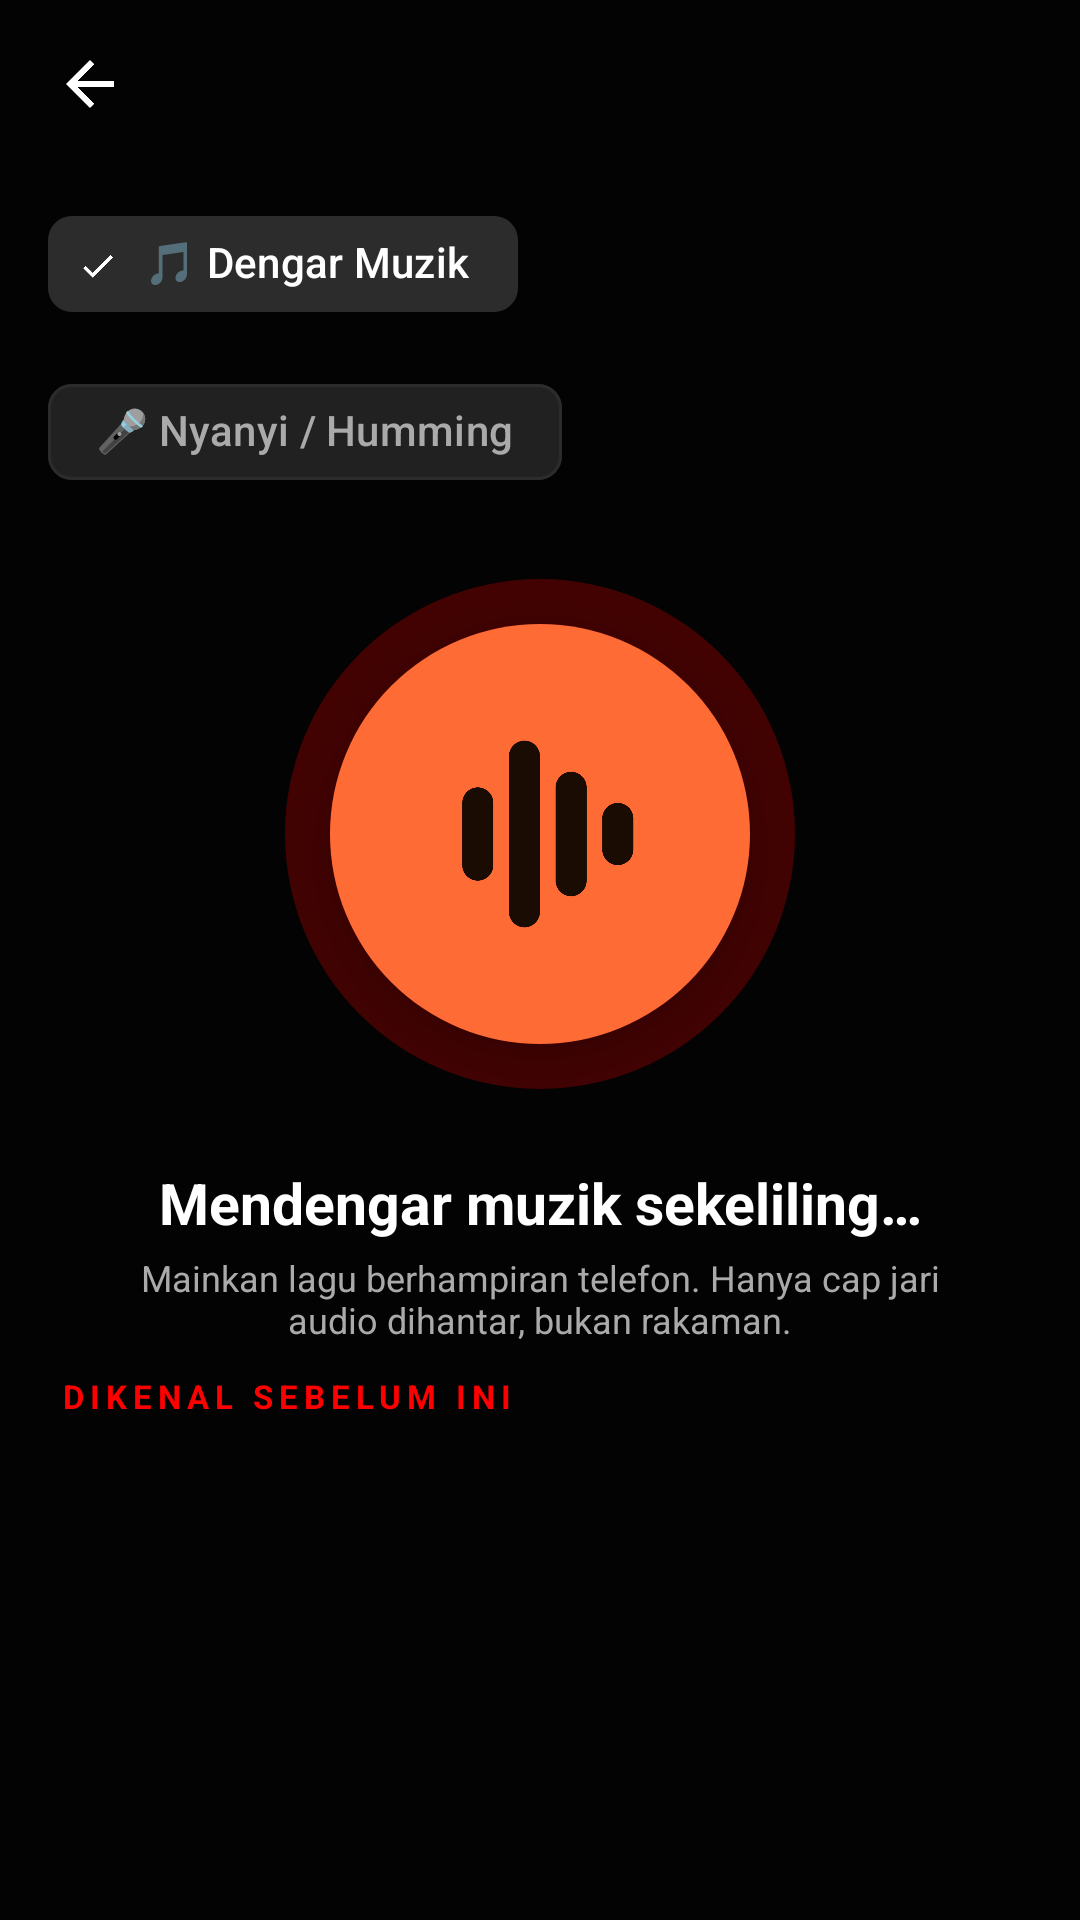

Icon click points for this 1080*1920 phone screenshot, format (x=x, y=y):
back: (x=90, y=84)
